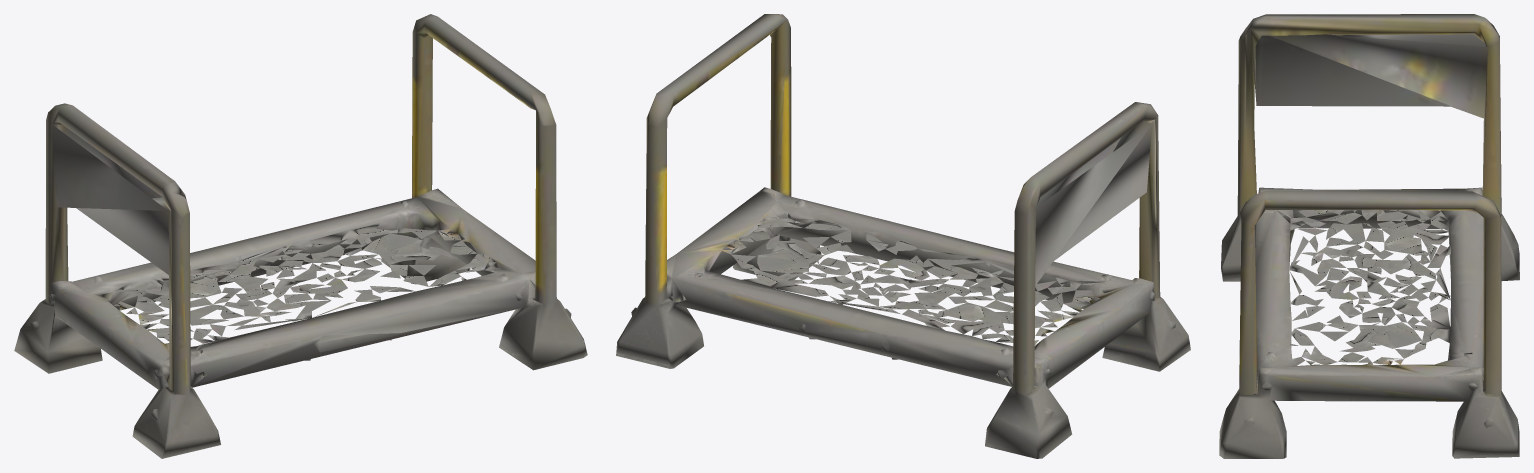
3 renders of one model, left to right at view 1: azimuth 30°, elevation 25°; view 2: azimuth 150°, elevation 25°; view 3: azimuth 270°, elevation 25°, orthographic.
Size of the model in its own units: 1.9 by 1.08 by 1.17.
1 material, 1 textured.
